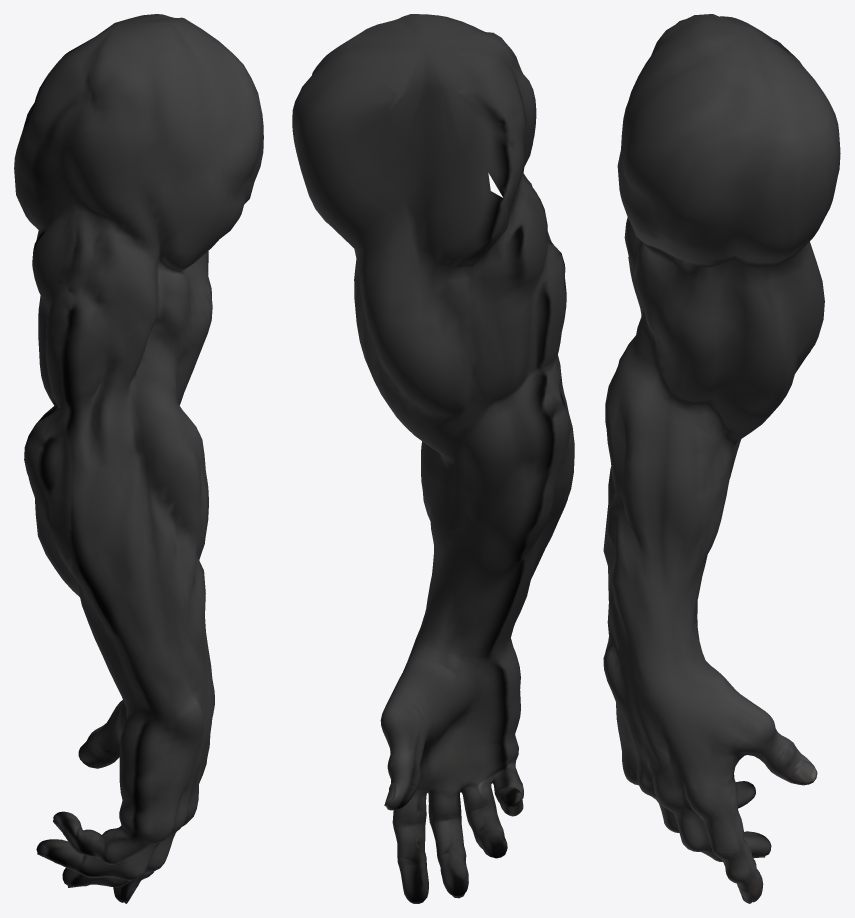
Rendered from tripo-muscular-forearm.glb.
3 views of the same model, side by side, from view 1: azimuth 30°, elevation 25°; view 2: azimuth 150°, elevation 25°; view 3: azimuth 270°, elevation 25° (orthographic).
Visible parts, largest first — view 1: tripo-muscular-forearm; view 2: tripo-muscular-forearm; view 3: tripo-muscular-forearm.
Boxes of the visible parts, x1=… form: tripo-muscular-forearm: x1=14, y1=14, x2=263, y2=903; tripo-muscular-forearm: x1=292, y1=14, x2=574, y2=903; tripo-muscular-forearm: x1=603, y1=14, x2=840, y2=903.
Bounding box in the file's own units: 0.2036 × 0.73 × 0.1794.
Materials: 1 (1 with a texture image).
